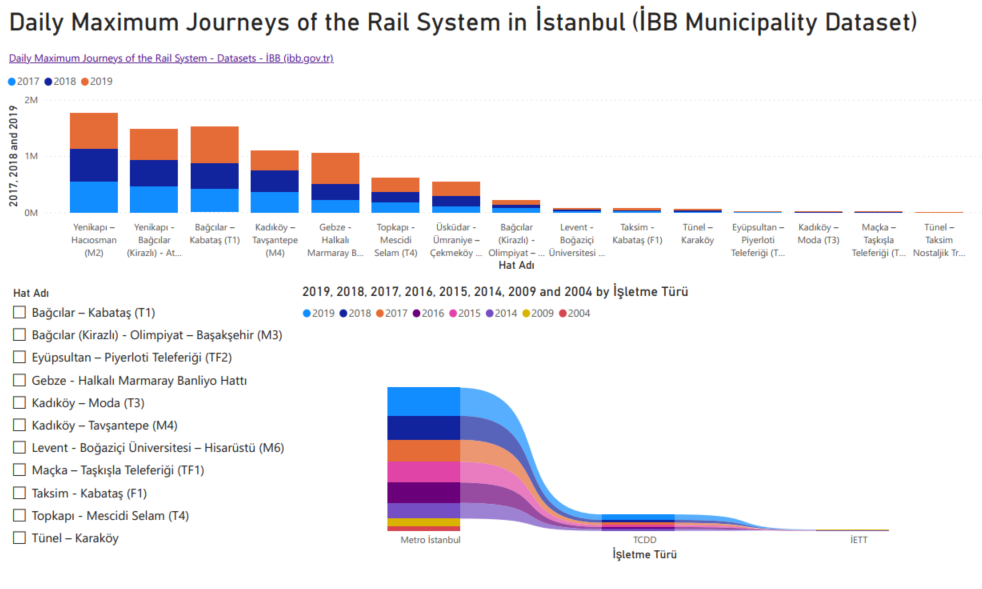

What the dashboard file says about the page in this screenshot:
{"tool":"powerbi","page":{"name":"Rail System Passengers","canvas":[1280,720],"ordinal":0},"visuals":[{"type":"columnChart","fields":{"Category":["Raylı Sistemler Max Yolculuk S.Hat Adı"],"Y":["Sum(Raylı Sistemler Max Yolculuk S.2017)","Sum(Raylı Sistemler Max Yolculuk S.2018)","Sum(Raylı Sistemler Max Yolculuk S.2019)"]},"box":[4.1,59.1,1270.4,288.4],"z":0},{"type":"textbox","title":"Daily Maximum Journeys of the Rail System in İstanbul (İBB Municipality Dataset)","box":[5.5,0,1269,83.8],"z":1000},{"type":"slicer","fields":{"Values":["Raylı Sistemler Max Yolculuk S.Hat Adı"]},"box":[4.1,357.1,379.1,351.6],"z":1001},{"type":"ribbonChart","fields":{"Category":["Raylı Sistemler Max Yolculuk S.İşletme Türü"],"Y":["Sum(Raylı Sistemler Max Yolculuk S.2019)","Sum(Raylı Sistemler Max Yolculuk S.2018)","Sum(Raylı Sistemler Max Yolculuk S.2017)","Sum(Raylı Sistemler Max Yolculuk S.2016)","Sum(Raylı Sistemler Max Yolculuk S.2015)","Sum(Raylı Sistemler Max Yolculuk S.2014)","Sum(Raylı Sistemler Max Yolculuk S.2009)","Sum(Raylı Sistemler Max Yolculuk S.2004)"]},"box":[383.2,357.1,891.3,362.6],"z":1002}]}

Visuals, with their boxes on the page's 1280x720 design canvas (x1, y1, x2, y2). These are canvas units, not pixel positions in the 982x589 screenshot, which may show the page scaled, cropped or inside an application window:
columnChart - Raylı Sistemler Max Yolculuk S.Hat Adı x Sum(Raylı Sistemler Max Yolculuk S.2017): 4/59/1274/348
"Daily Maximum Journeys of the Rail System in İstanbul (İBB Municipality Dataset)" textbox: 6/0/1274/84
slicer - Raylı Sistemler Max Yolculuk S.Hat Adı: 4/357/383/709
ribbonChart - Raylı Sistemler Max Yolculuk S.İşletme Türü x Sum(Raylı Sistemler Max Yolculuk S.2019): 383/357/1274/720
